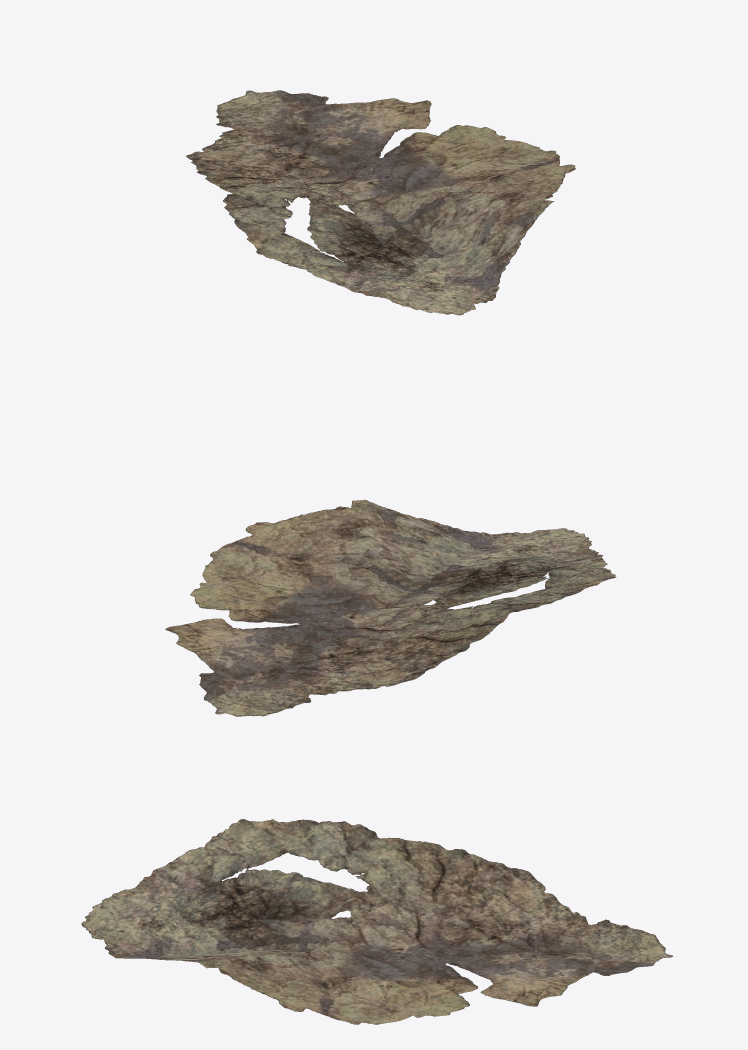
Rendered from paperTrash01.FBX.
3 views of the same model, one above another, from view 1: azimuth 30°, elevation 25°; view 2: azimuth 150°, elevation 25°; view 3: azimuth 270°, elevation 25° (orthographic). The views are drawn at different scales.
Visible parts, largest first — view 1: SM_PaperTrash01; view 2: SM_PaperTrash01; view 3: SM_PaperTrash01.
Part boxes in pixels (x1,y1,x2,y2): SM_PaperTrash01: (186,90,575,315); SM_PaperTrash01: (165,499,615,716); SM_PaperTrash01: (81,819,672,1024).
Size of the model in its own units: 21.39 by 4.07 by 33.33.
Materials: 1 (1 with a texture image).
